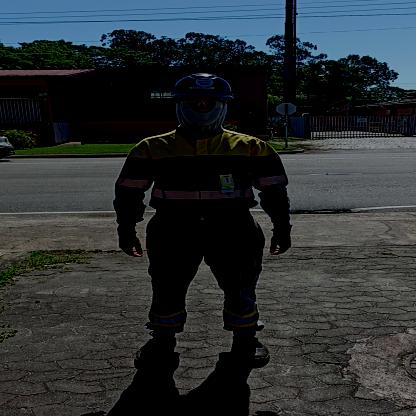Balaclava: (175, 96, 226, 134)
Capacete: (170, 73, 230, 99)
